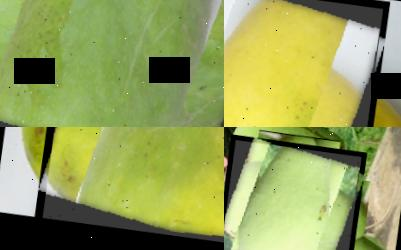PartiallyRipe: (38, 127, 224, 250)
Ripe: (224, 0, 386, 127)
Unripe: (0, 0, 224, 127), (224, 136, 364, 250)
